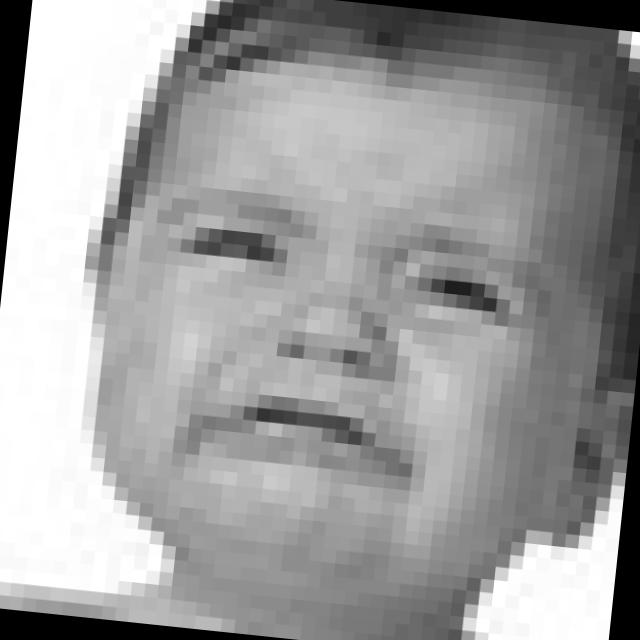sad: (120, 156, 577, 530)
